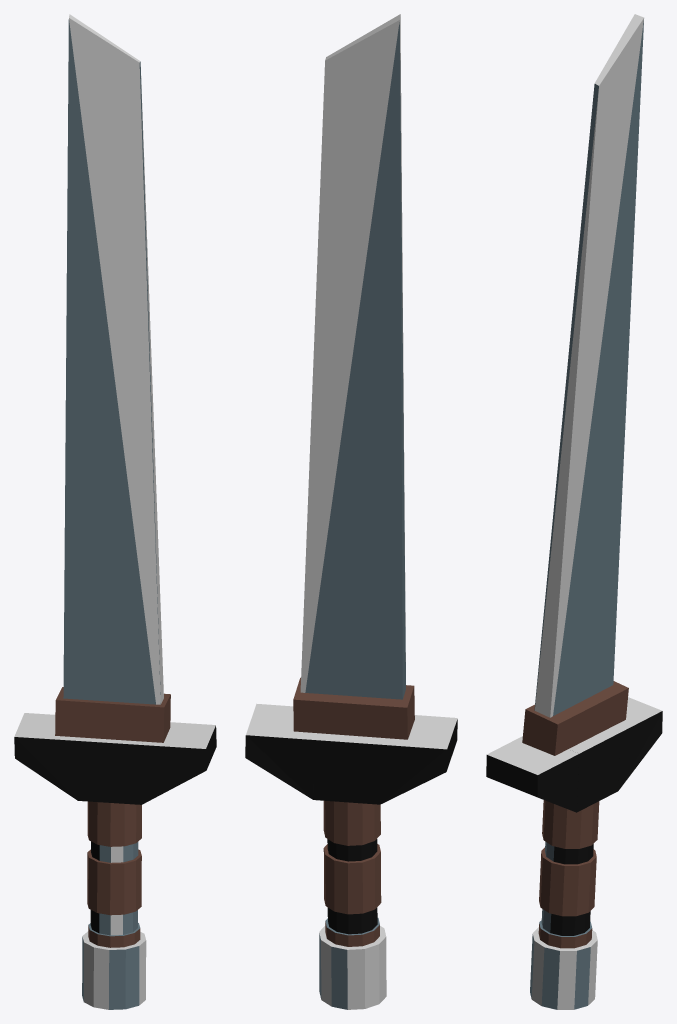
The model's file is Sword.glb.
The picture shows the model from 3 angles, left to right: view 1: azimuth 30°, elevation 25°; view 2: azimuth 210°, elevation 25°; view 3: azimuth 270°, elevation 25°; orthographic projection. The views are drawn at different scales.
Visible parts, largest first — view 1: node_MeshObject-1129375744-PolyPaper21; view 2: node_MeshObject-1129375744-PolyPaper21; view 3: node_MeshObject-1129375744-PolyPaper21.
Boxes of the visible parts, x1,y1,x2,y2 form: node_MeshObject-1129375744-PolyPaper21: (14, 14, 216, 1009); node_MeshObject-1129375744-PolyPaper21: (245, 14, 457, 1009); node_MeshObject-1129375744-PolyPaper21: (486, 14, 662, 1009).
Bounding box in the file's own units: 0.8014 × 4.41 × 0.7208.
